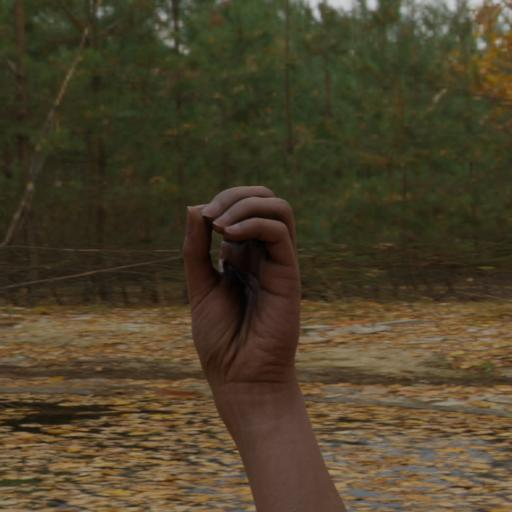O: (180, 175, 306, 374)
